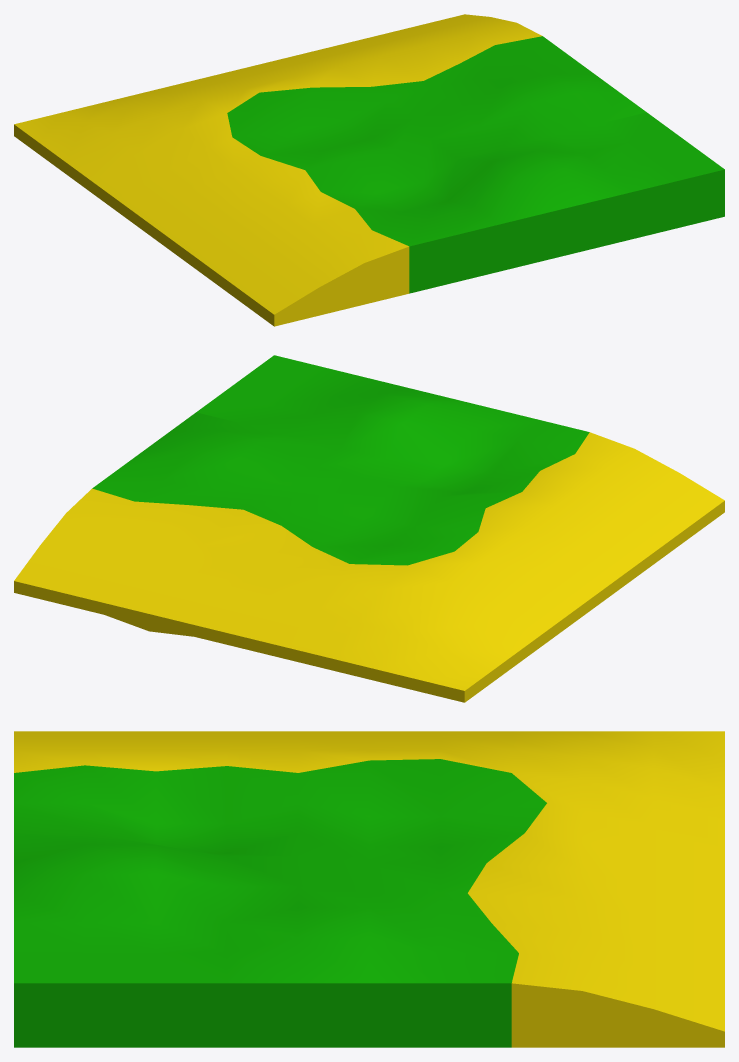
The model's file is island_corner_00.fbx.
The picture shows the model from 3 angles, top to bottom: view 1: azimuth 30°, elevation 25°; view 2: azimuth 150°, elevation 25°; view 3: azimuth 270°, elevation 25°; orthographic projection. The views are drawn at different scales.
Visible parts, largest first — view 1: Box001; view 2: Box001; view 3: Box001.
Boxes of the visible parts, x1=… form: Box001: x1=14, y1=14, x2=724, y2=326; Box001: x1=14, y1=355, x2=724, y2=702; Box001: x1=14, y1=731, x2=724, y2=1047.
Size of the model in its own units: 400 by 56.24 by 400.
